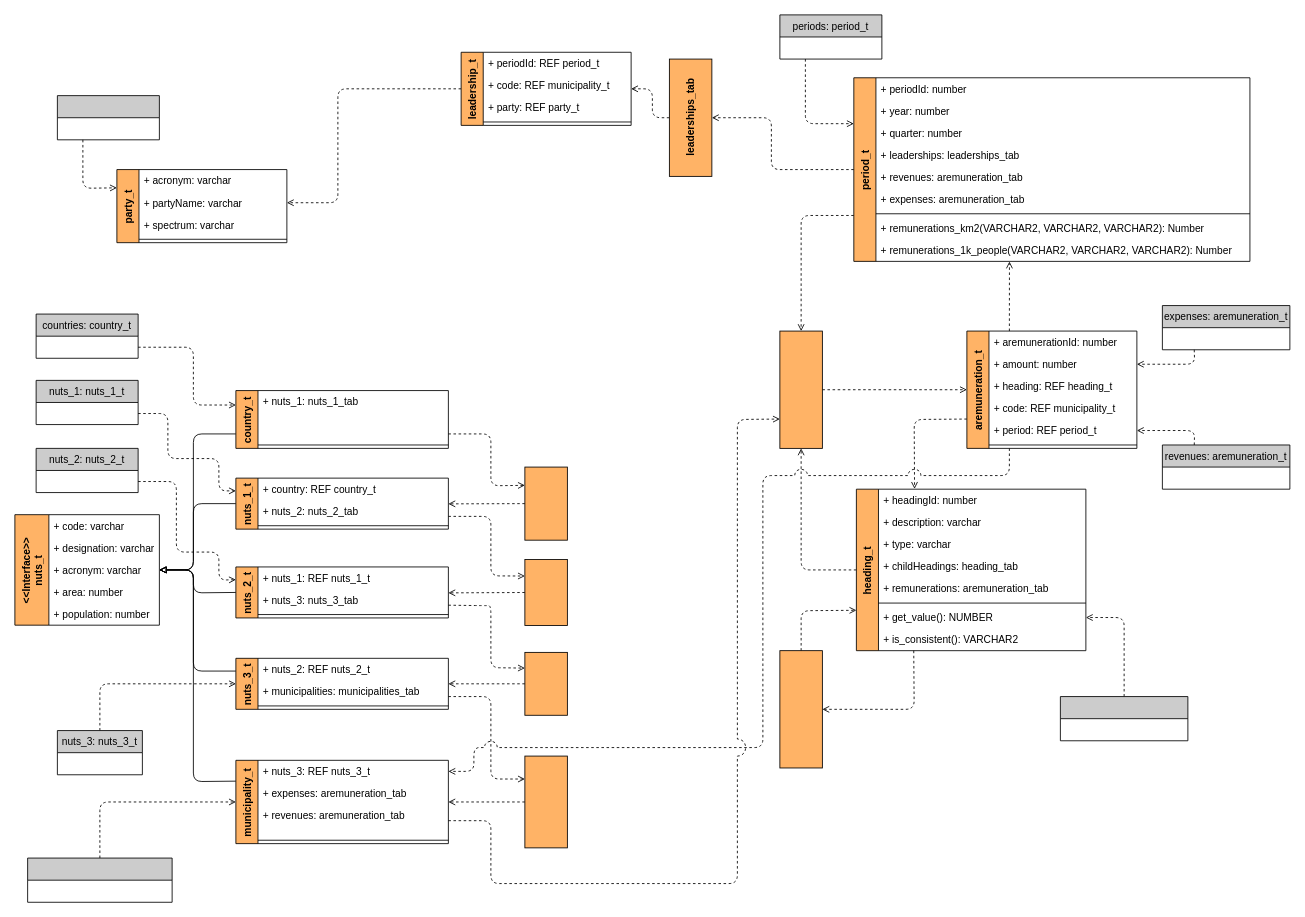
This 1305x917 diagram has some shape labels left out. Here are the shapes that lost their labels. From the top down, the centre of each, then its label:
At point 108,117: "parties: party_t".
At point 800,389: "aremuneration_tab".
At point 545,503: "nuts_1_tab".
At point 545,592: "nuts_2_tab".
At point 545,683: "nuts_3_tab".
At point 800,709: "headings_tab".
At point 1124,718: "headings: heading_t".
At point 545,801: "municipality_tab".
At point 99,879: "municipalities: municipality_t".
